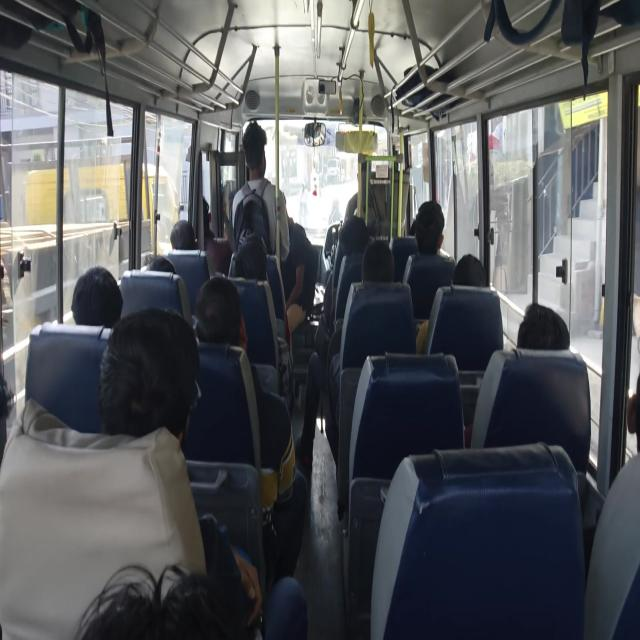person: (97, 578, 327, 640), (92, 350, 201, 450), (198, 293, 253, 357), (516, 303, 568, 367), (62, 269, 128, 319), (240, 131, 282, 204), (409, 204, 451, 262), (330, 208, 369, 266), (460, 250, 496, 312), (362, 244, 398, 301), (168, 218, 210, 266), (283, 203, 308, 279), (142, 251, 184, 290), (235, 239, 272, 273)
